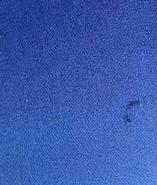knot: (121, 98, 142, 126)
